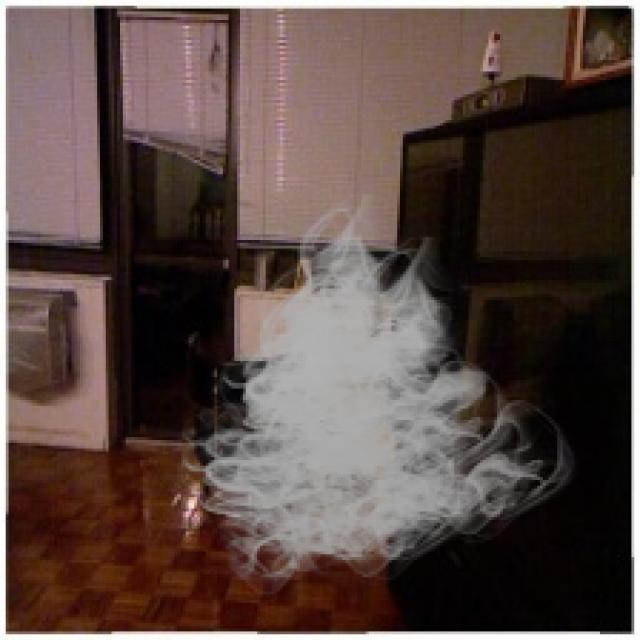Smoke: (165, 194, 580, 606)
